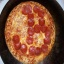pepperoni: (26, 8, 35, 44), (11, 35, 27, 53), (31, 6, 45, 26), (42, 30, 53, 51), (29, 46, 42, 57)
pizza: (1, 3, 62, 58)
